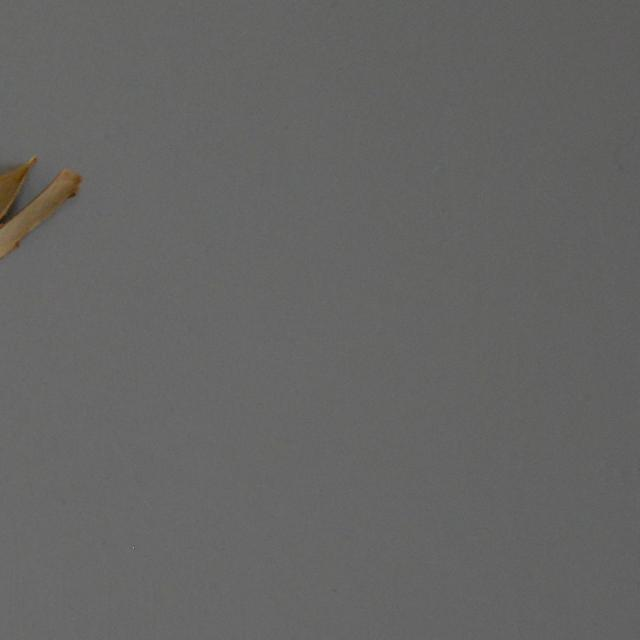cuerpos_extranos: (0, 146, 80, 286)
